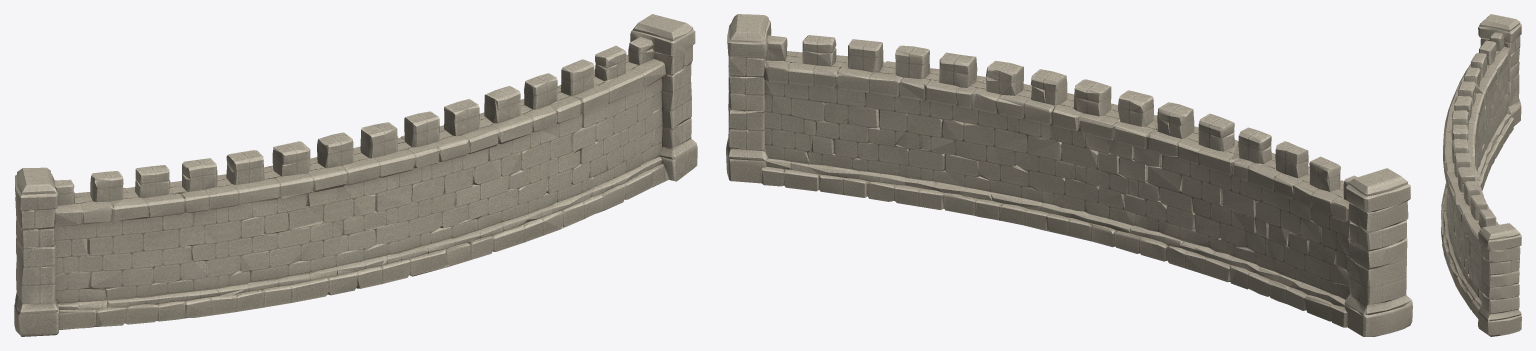
The model's file is inner_wall_segment.glb.
3 views of the same model, side by side, from view 1: azimuth 30°, elevation 25°; view 2: azimuth 150°, elevation 25°; view 3: azimuth 270°, elevation 25° (orthographic). The views are drawn at different scales.
Visible parts, largest first — view 1: output_unwrapped; view 2: output_unwrapped; view 3: output_unwrapped.
Boxes of the visible parts, box(x1,y1,x2,y2) form: output_unwrapped: box(14, 14, 697, 336); output_unwrapped: box(726, 14, 1412, 336); output_unwrapped: box(1441, 14, 1521, 336).
Size of the model in its own units: 1.9 by 0.4054 by 0.2867.
Materials: 1 (1 with a texture image).
